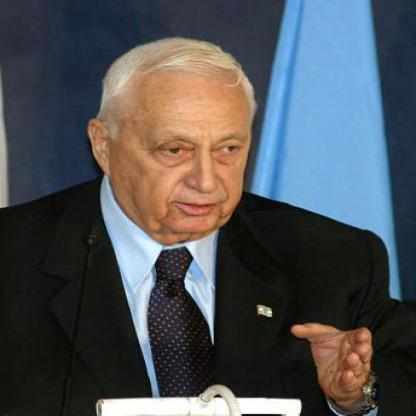face: (109, 48, 265, 239)
